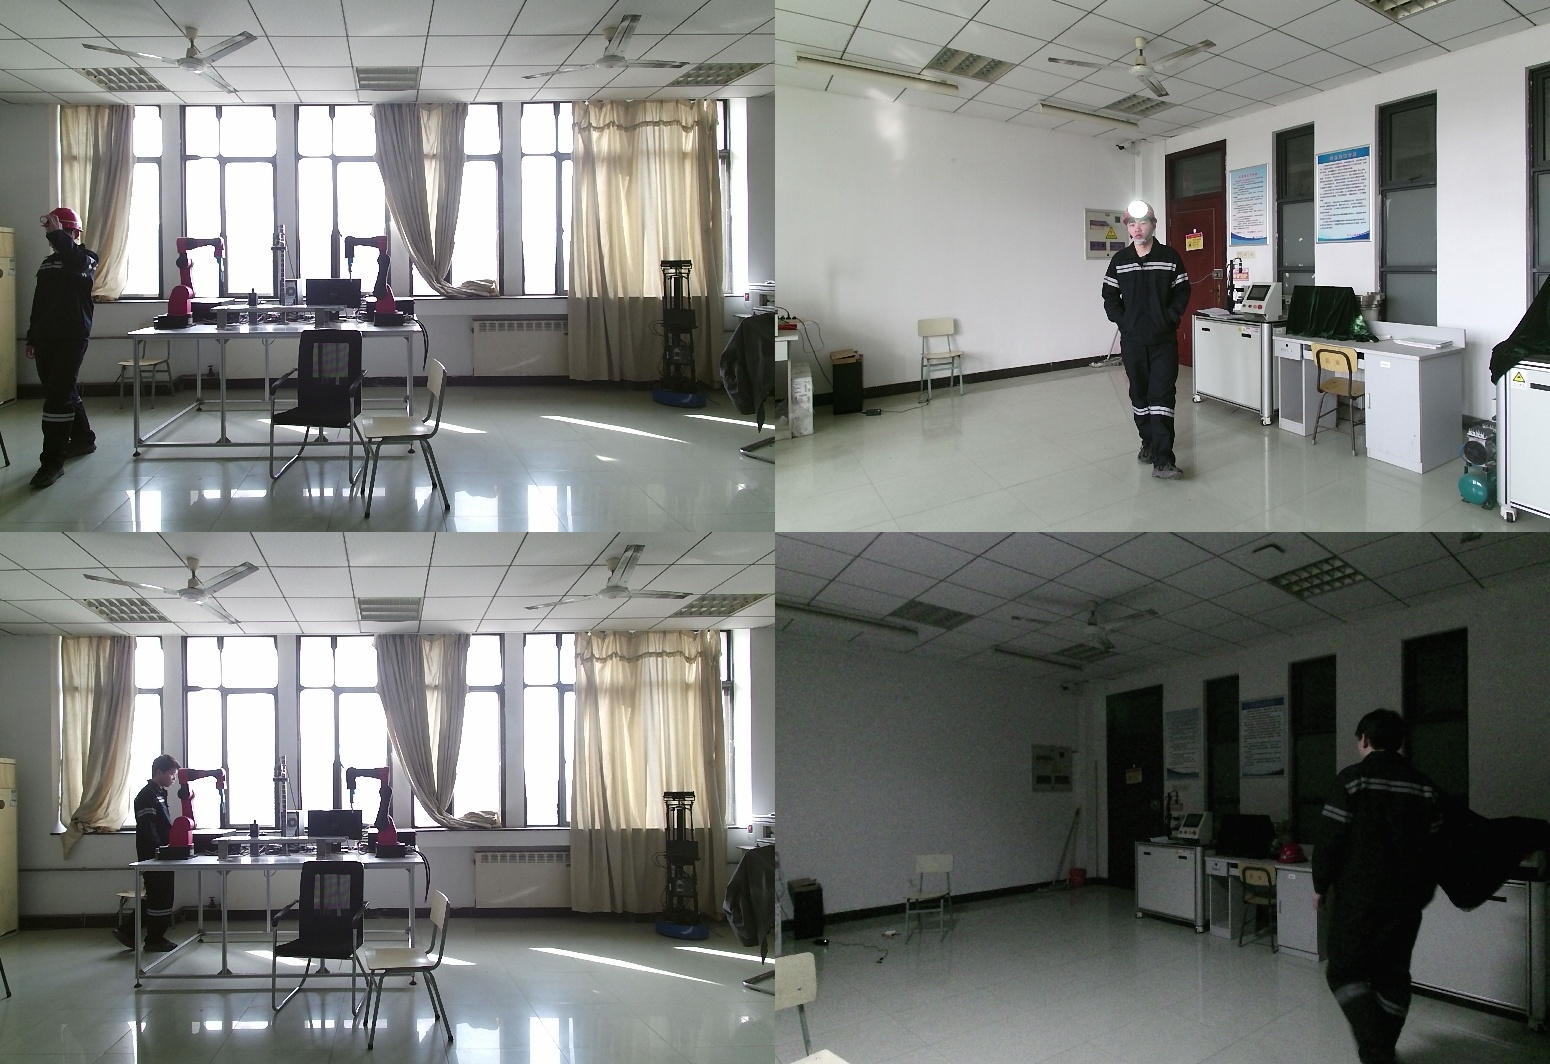person: (1290, 720, 1441, 1064), (1100, 203, 1200, 480), (25, 210, 101, 489), (118, 753, 193, 959)
